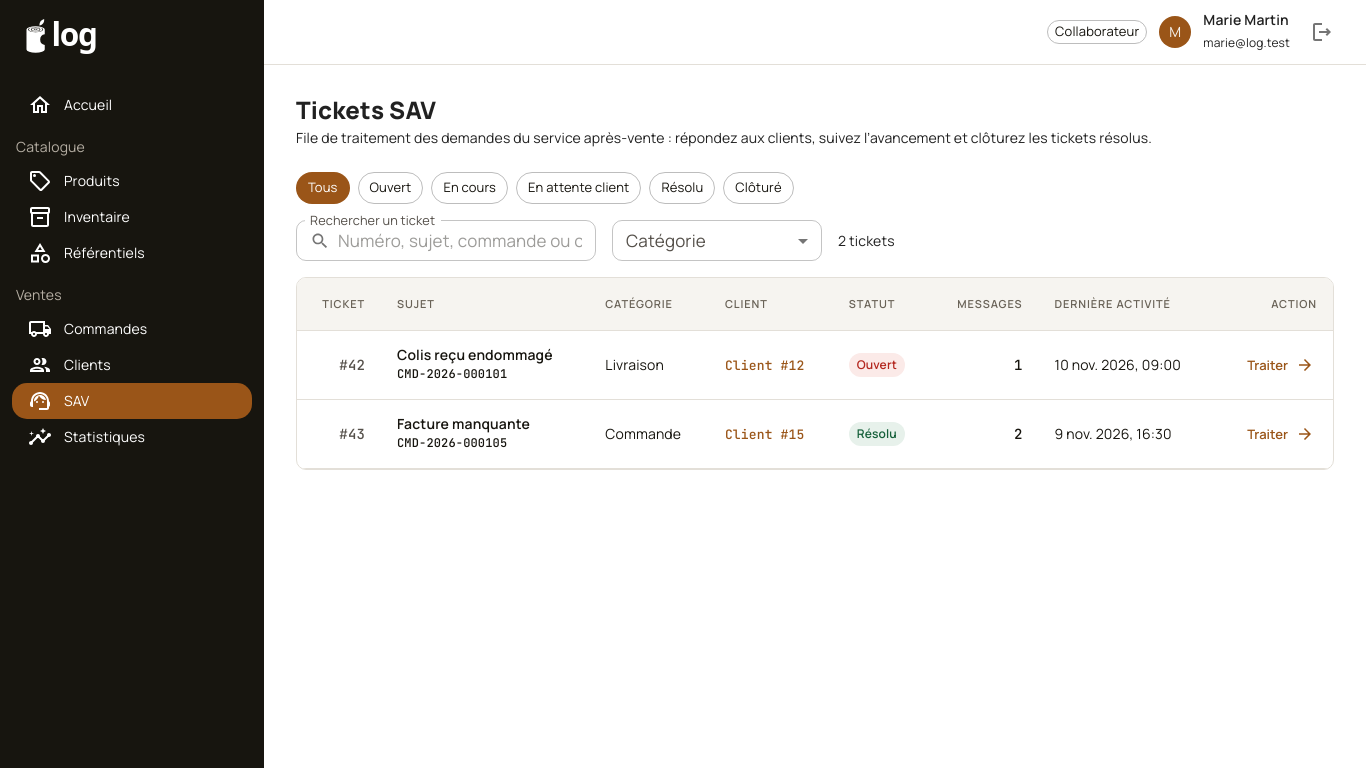
it: the SAV support screens (S05) › lists tickets and filters by status through the admin support API
Expected: the text "Colis reçu endommagé" is shown, [397, 346, 573, 366]
Expected: the text "Facture manquante" is shown, [397, 414, 530, 433]
Click the button "Ouvert" at (391, 188), box [358, 172, 424, 204]
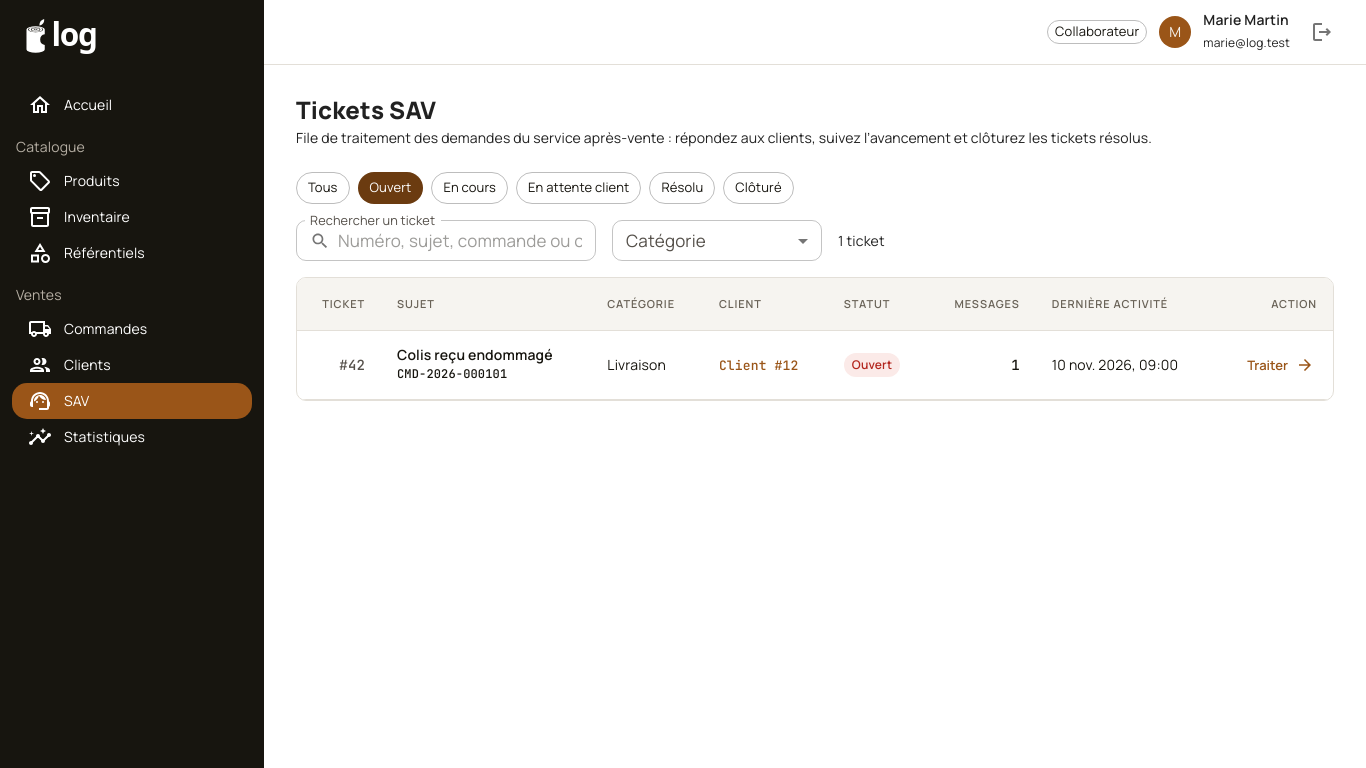
Expected: the text "1 ticket" is shown, [838, 231, 885, 251]
Expected: the text "Facture manquante" is gone
